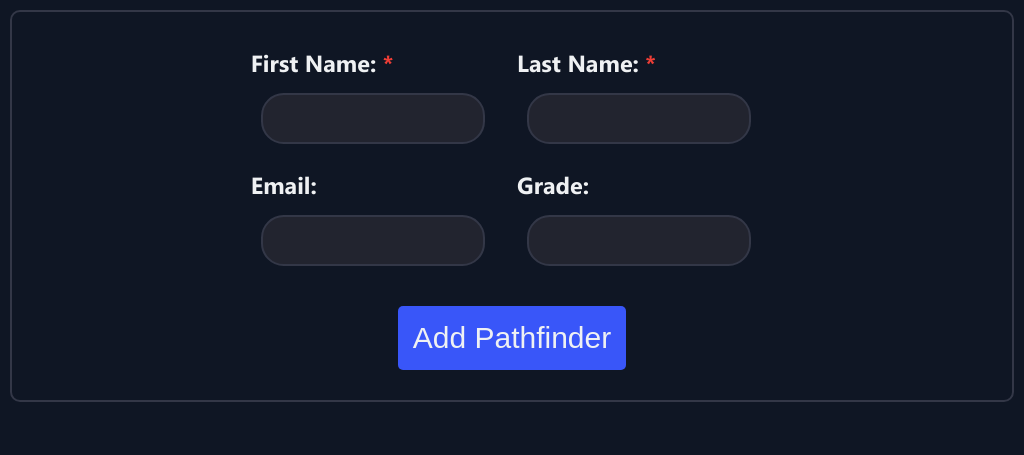
it: CreatePathfinderForm › Form validation › should show error for invalid grade
This screenshot has width=1024, height=455.
Type "John" into the field below "First Name:". click: (373, 118)
box: [261,93,485,144]
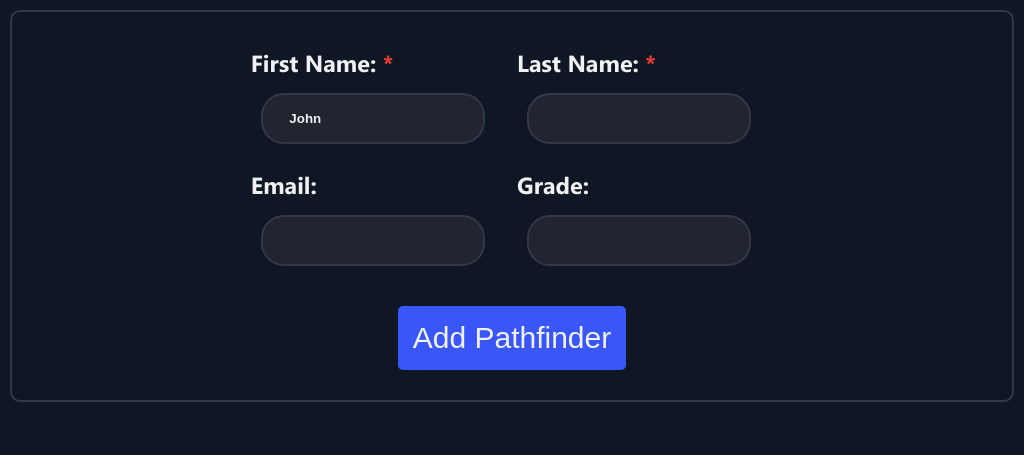
Type "Doe" into the field below "Last Name:". click: (639, 118)
box: [527,93,751,144]
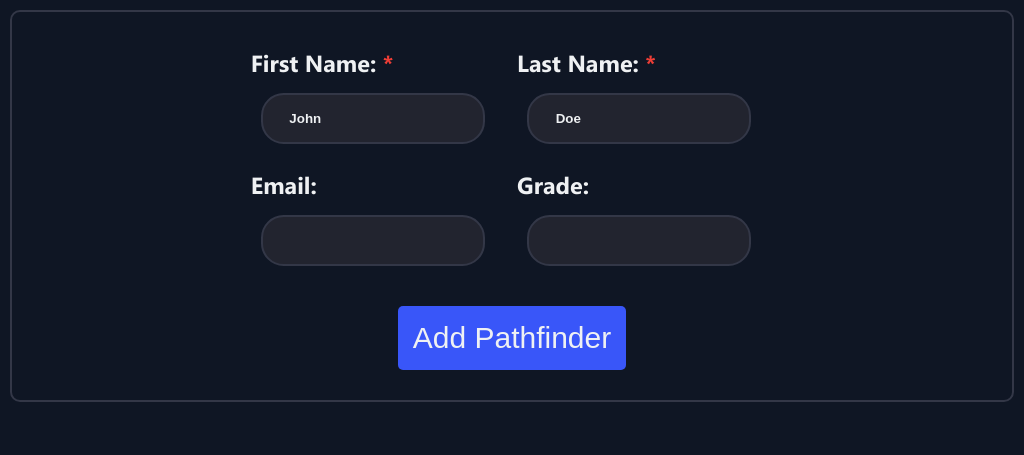
Type "john@example.com" into the field below "Email:". click: (373, 240)
box: [261,215,485,266]
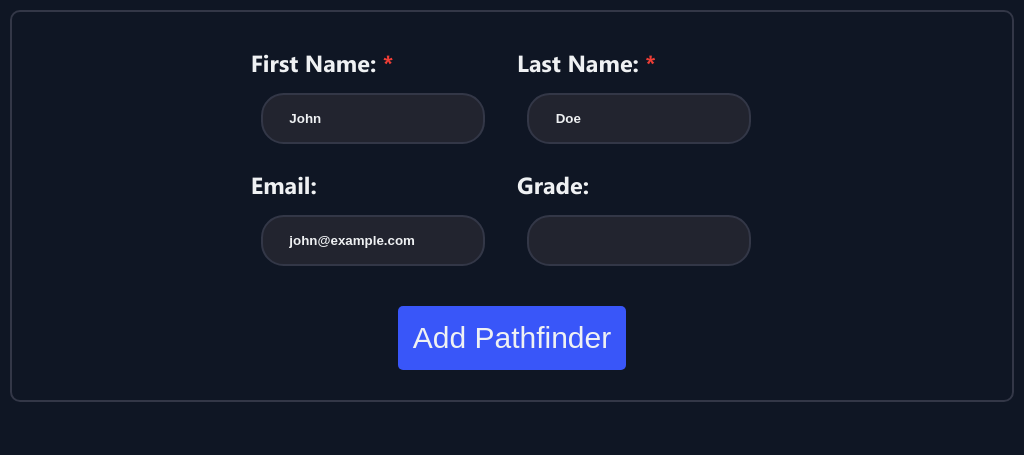
Type "3" into the field below "Grade:". click: (639, 240)
box: [527,215,751,266]
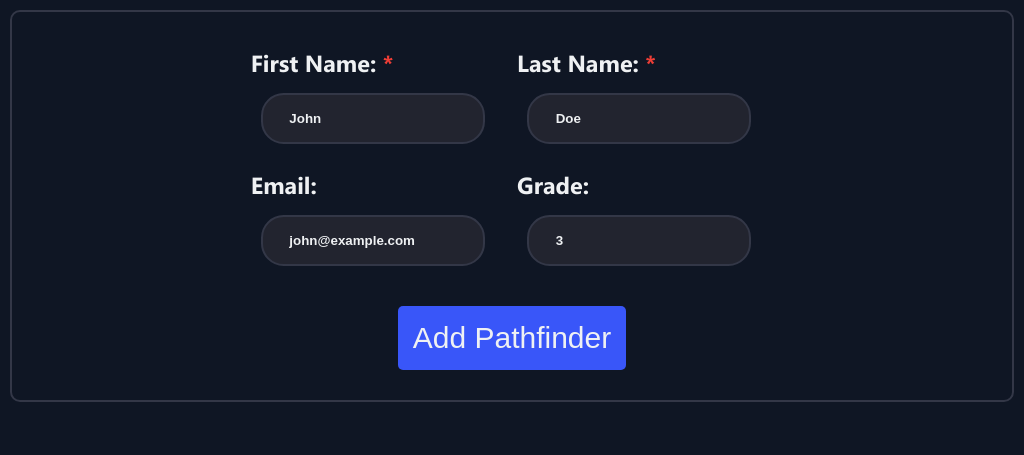
Submit the form, box [251,42,773,370]
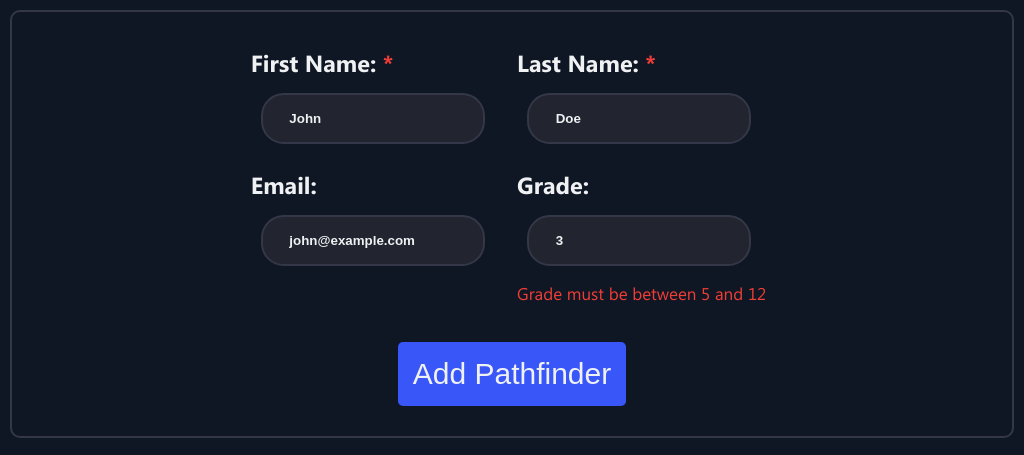
Expected: the text "Grade must be between 5 and 12" is shown, [517,281,773,306]
